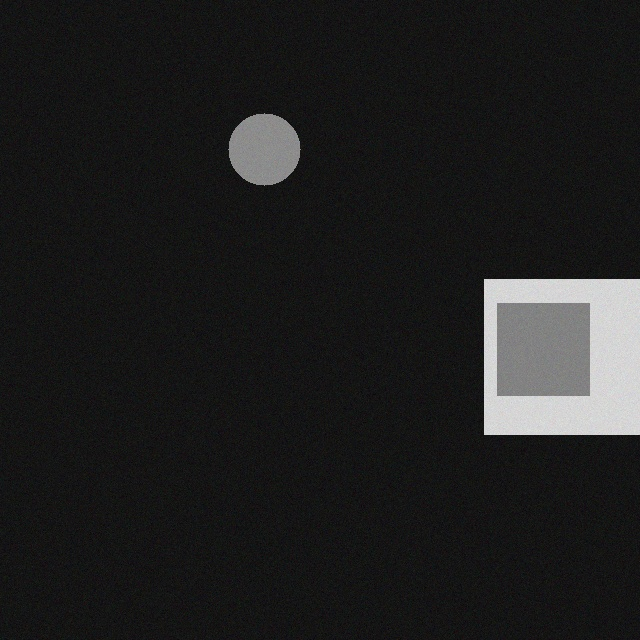circle: (223, 115, 295, 187)
square: (479, 281, 634, 436), (492, 305, 584, 397)
